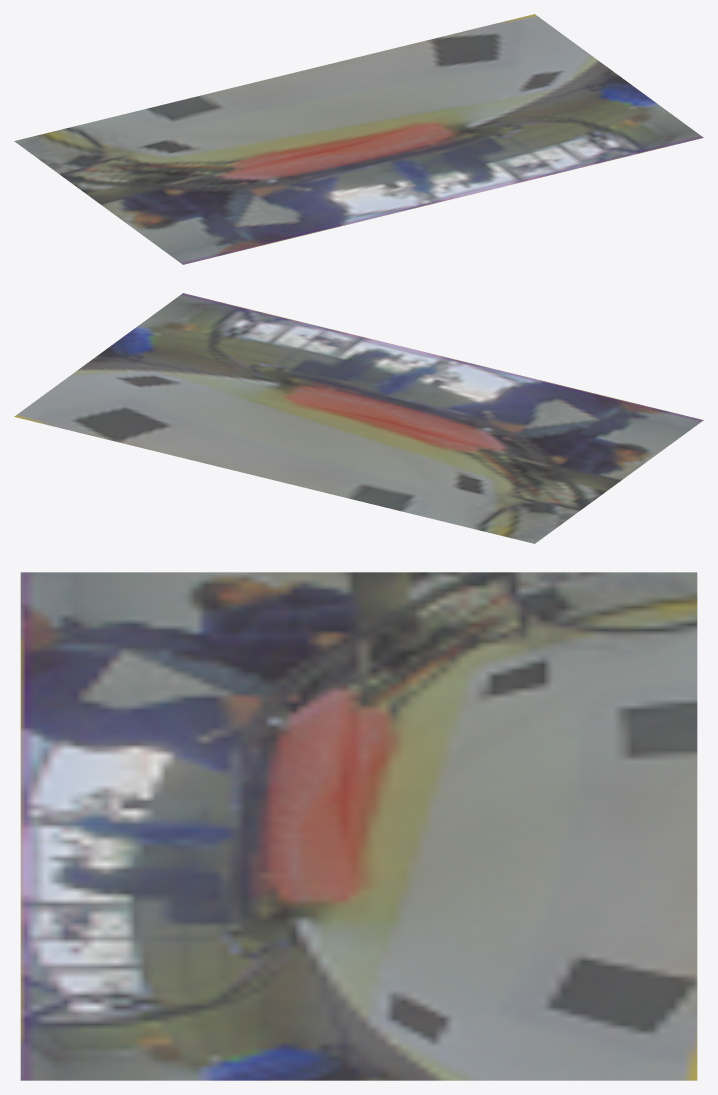
File: plane_single.gltf
The picture shows the model from 3 angles, top to bottom: view 1: azimuth 30°, elevation 25°; view 2: azimuth 150°, elevation 25°; view 3: azimuth 270°, elevation 25°; orthographic projection. The views are drawn at different scales.
Visible parts, largest first — view 1: rear_only; view 2: rear_only; view 3: rear_only.
Part boxes in pixels (bbox=[...]): rear_only: bbox=[14, 14, 703, 264]; rear_only: bbox=[14, 293, 703, 543]; rear_only: bbox=[20, 572, 697, 1080].
Bounding box in the file's own units: 12.8 × 0 × 7.2.
Materials: 1 (1 with a texture image).
